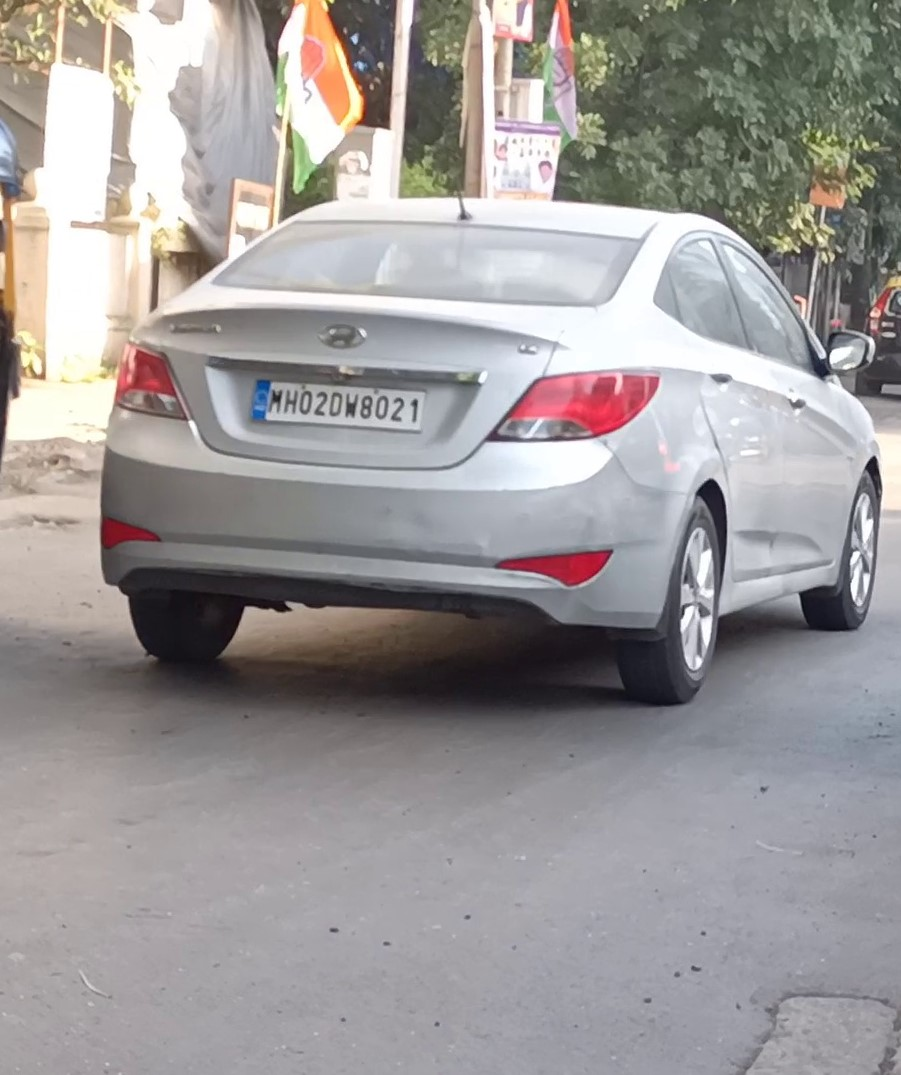MH02DW8021: (250, 376, 428, 433)
